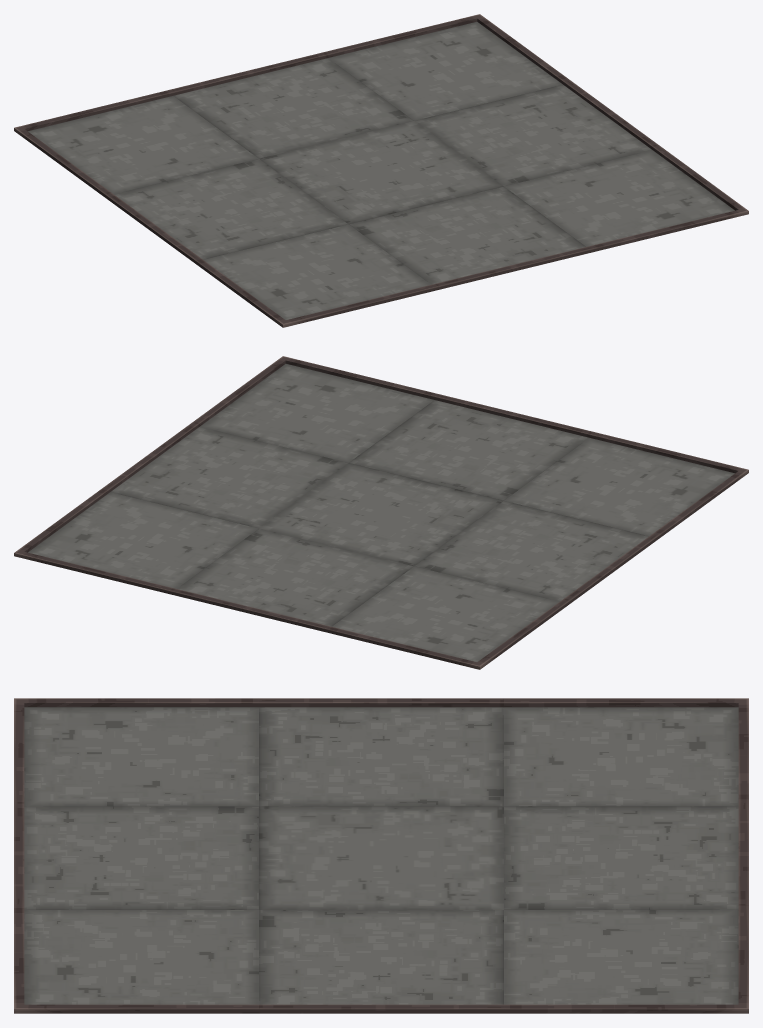
The model's file is BigRoof.fbx.
3 views of the same model, one above another, from view 1: azimuth 30°, elevation 25°; view 2: azimuth 150°, elevation 25°; view 3: azimuth 270°, elevation 25° (orthographic). The views are drawn at different scales.
Visible parts, largest first — view 1: BigRoof; view 2: BigRoof; view 3: BigRoof.
Boxes of the visible parts, bbox=[...] form: BigRoof: bbox=[14, 14, 748, 327]; BigRoof: bbox=[14, 356, 748, 669]; BigRoof: bbox=[14, 698, 748, 1013].
Size of the model in its own units: 300 by 2 by 300.
